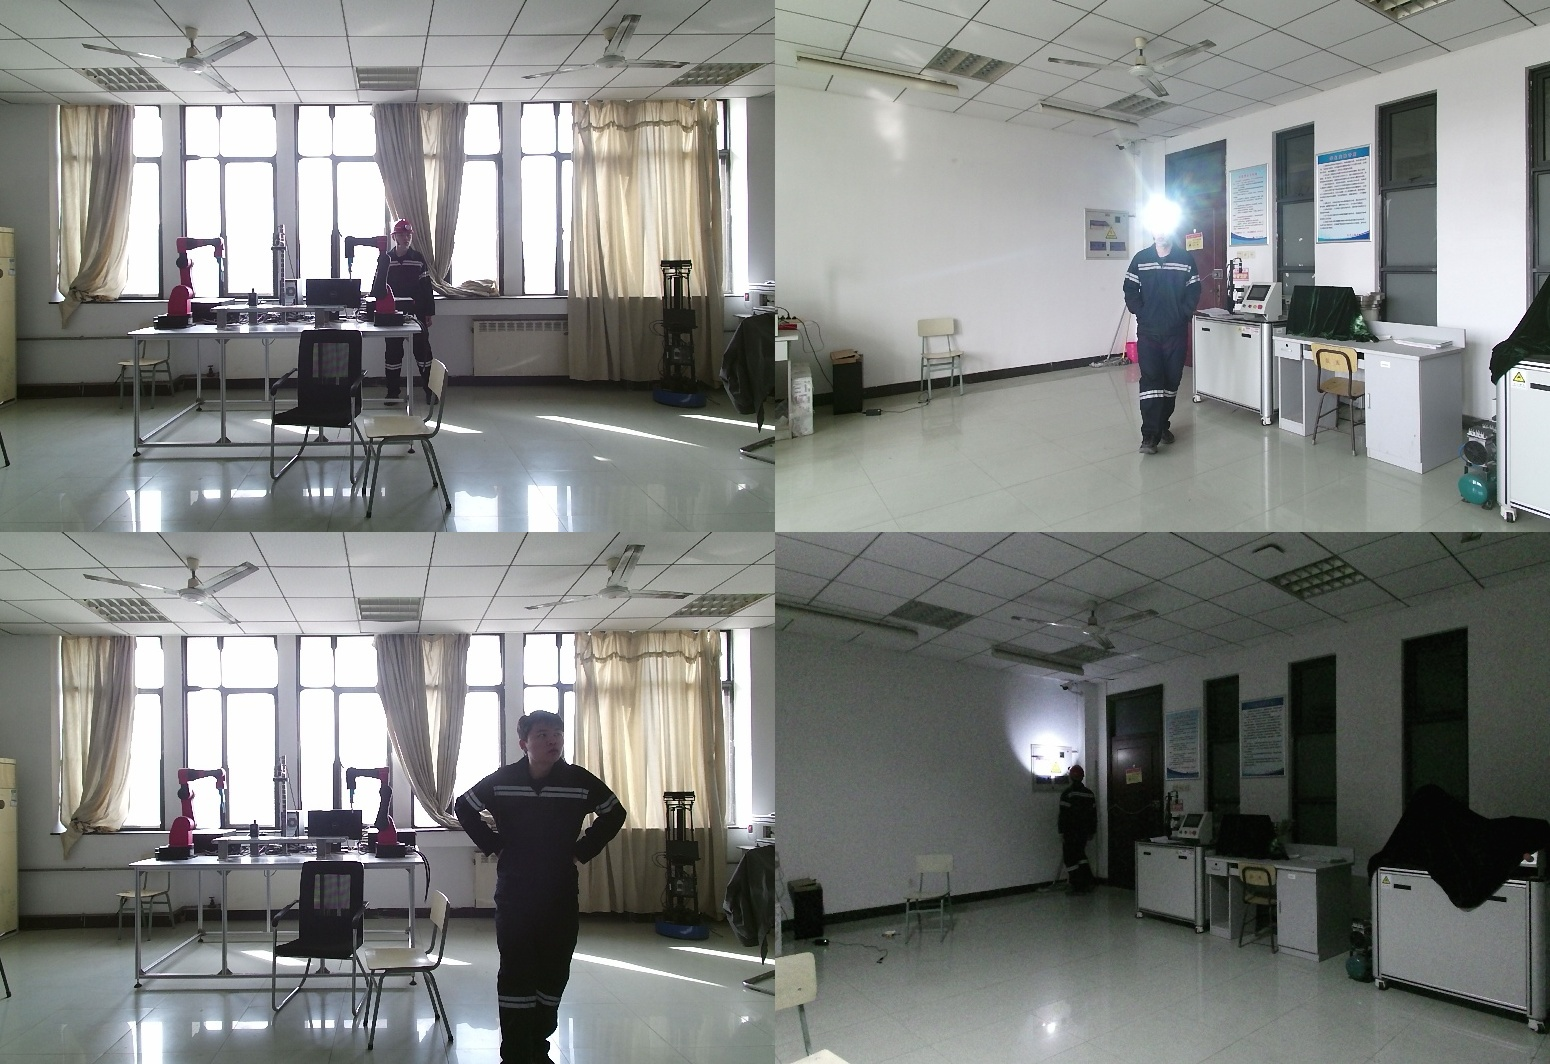person: (459, 715, 639, 1063), (1125, 217, 1210, 452), (368, 219, 437, 406), (1051, 765, 1099, 899)
